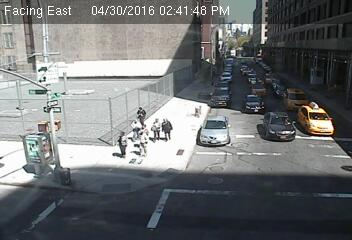neg: (44, 66, 63, 90), (260, 45, 276, 67), (242, 100, 257, 120), (52, 159, 67, 179), (280, 90, 295, 109), (81, 110, 96, 129), (182, 95, 196, 115), (42, 119, 56, 137), (153, 84, 166, 102), (215, 122, 228, 140), (200, 168, 212, 186), (203, 96, 215, 112), (27, 162, 38, 177), (241, 142, 252, 156), (126, 59, 136, 73), (93, 168, 103, 182), (143, 194, 153, 208), (317, 155, 327, 168), (171, 61, 180, 73), (69, 58, 78, 70), (72, 126, 81, 138), (100, 93, 109, 105), (284, 150, 293, 162), (291, 181, 300, 193), (211, 66, 218, 76), (88, 53, 95, 63), (243, 178, 250, 188), (114, 87, 121, 96), (314, 115, 320, 124), (244, 68, 250, 76)
pos: (110, 129, 134, 161), (128, 126, 150, 155), (153, 115, 174, 144), (146, 113, 166, 140), (130, 100, 150, 127), (125, 113, 143, 137), (137, 122, 151, 141)
